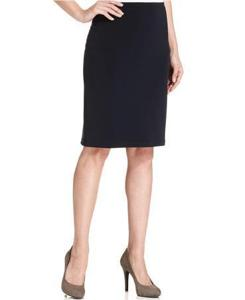F_tailored skirt: (77, 1, 175, 148)
